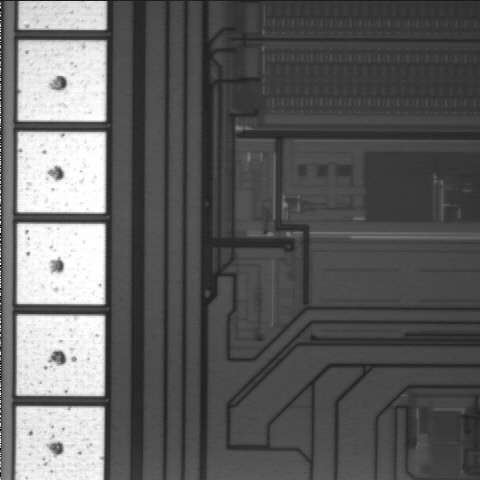pad: (18, 40, 106, 122), (17, 132, 106, 213), (17, 223, 105, 304), (17, 315, 105, 396)
